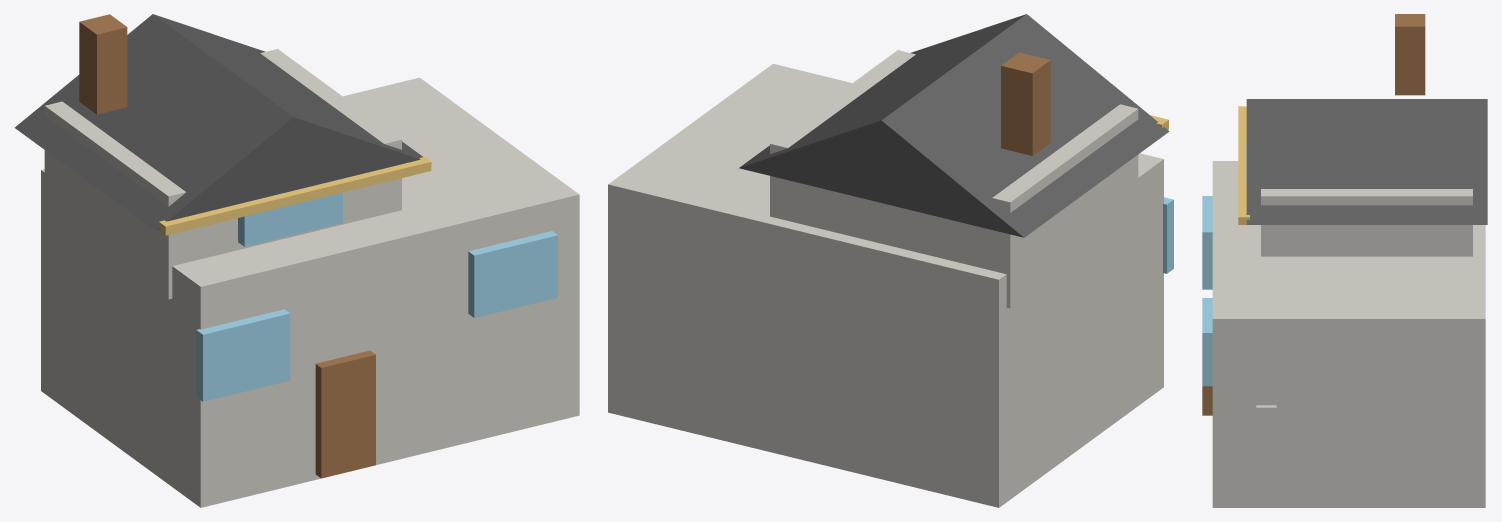
The model's file is modern-house.gltf.
The picture shows the model from 3 angles, left to right: view 1: azimuth 30°, elevation 25°; view 2: azimuth 150°, elevation 25°; view 3: azimuth 270°, elevation 25°; orthographic projection. The views are drawn at different scales.
Visible parts, largest first — view 1: gltf house main body, gltf roof, gltf upper volume, gltf front door, gltf wide window, gltf right window, gltf chimney, gltf roof trim, gltf upper window; view 2: gltf house main body, gltf roof, gltf upper volume, gltf chimney, gltf wide window; view 3: gltf house main body, gltf roof, gltf upper volume, gltf chimney, gltf garage, gltf roof trim, gltf wide window, gltf right window, gltf front door.
Part boxes in pixels (box(x1,y1,x2,y2)): gltf house main body: box(41, 77, 579, 507); gltf roof: box(14, 14, 431, 230); gltf upper volume: box(44, 49, 401, 299); gltf front door: box(315, 350, 375, 478); gltf wide window: box(196, 309, 290, 401); gltf right window: box(468, 231, 557, 317); gltf chimney: box(79, 14, 127, 114); gltf roof trim: box(159, 157, 431, 235); gltf upper window: box(238, 179, 342, 246); gltf house main body: box(608, 64, 1163, 507); gltf roof: box(739, 14, 1169, 237); gltf upper volume: box(770, 50, 1138, 308); gltf chimney: box(1001, 52, 1050, 155); gltf wide window: box(1163, 197, 1173, 273); gltf house main body: box(1212, 161, 1485, 507); gltf roof: box(1246, 99, 1487, 224); gltf upper volume: box(1261, 189, 1472, 256); gltf chimney: box(1395, 14, 1425, 95); gltf garage: box(1256, 405, 1276, 488); gltf roof trim: box(1238, 106, 1249, 224); gltf wide window: box(1202, 196, 1212, 289); gltf right window: box(1202, 298, 1212, 386); gltf front door: box(1202, 386, 1212, 415).
Size of the model in its own units: 5.62 by 5.18 by 3.96.
